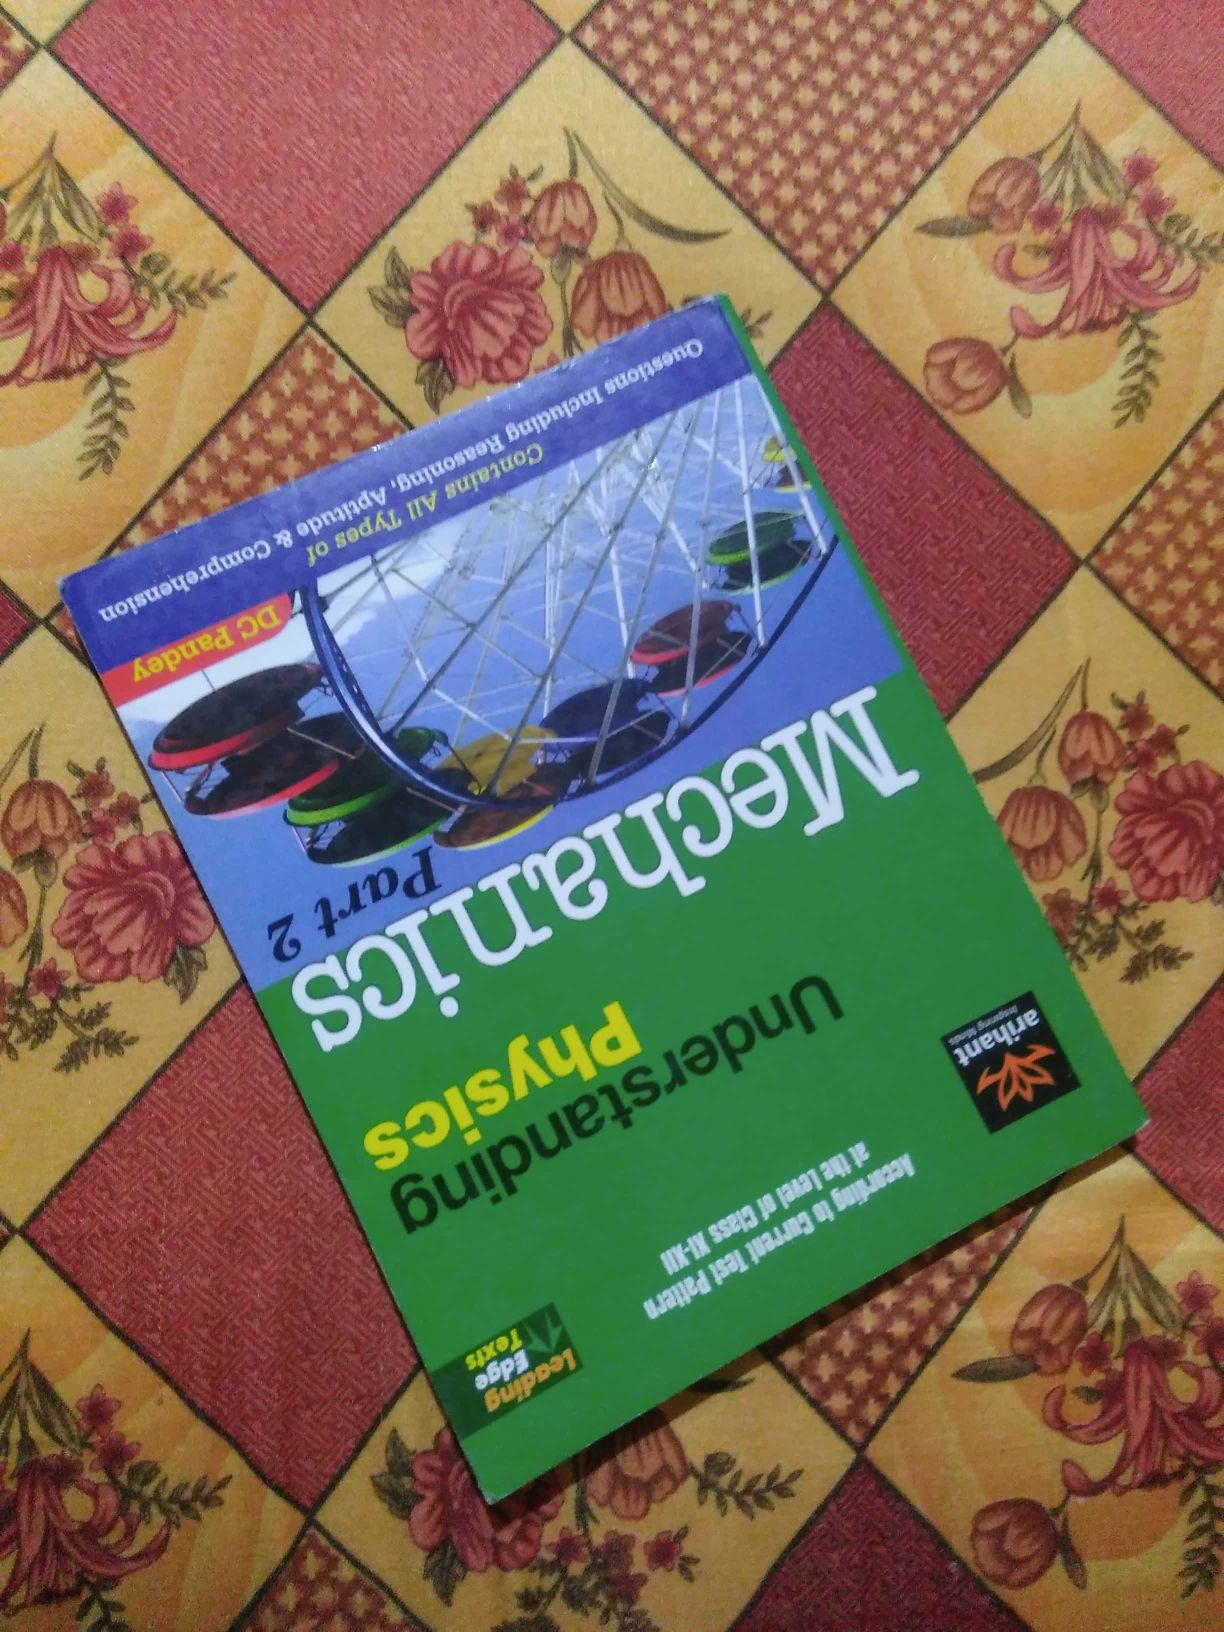mechanics: (66, 350, 1187, 1509)
